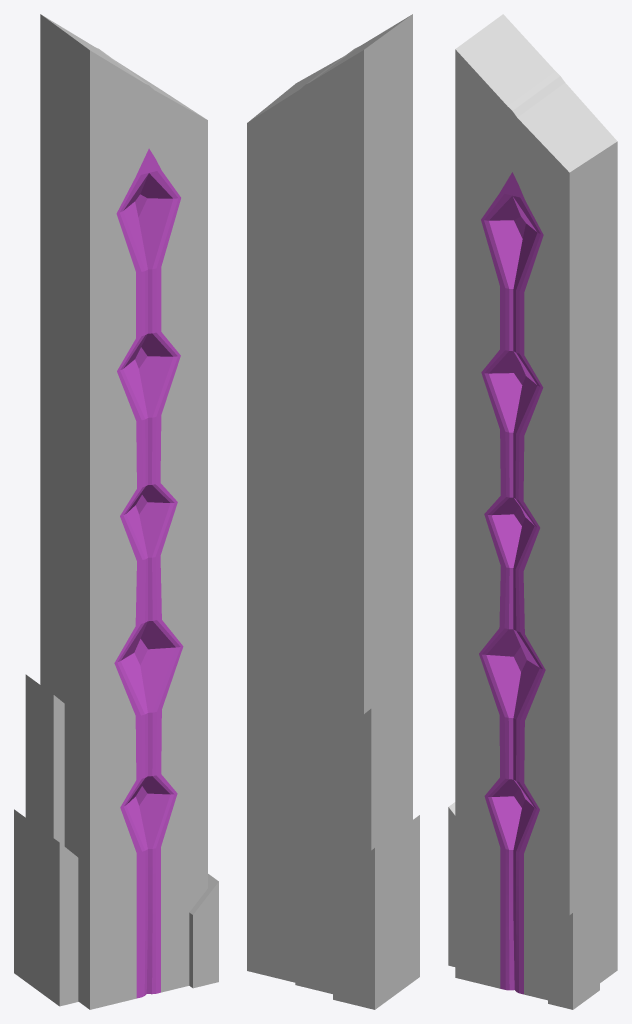
Rendered from FBX_Totem Pillar_00.fbx.
3 views of the same model, side by side, from view 1: azimuth 30°, elevation 25°; view 2: azimuth 150°, elevation 25°; view 3: azimuth 330°, elevation 25° (orthographic). The views are drawn at different scales.
Visible parts, largest first — view 1: Cube; view 2: Cube; view 3: Cube.
Part boxes in pixels (left/top/right/bottom): Cube: left=14, top=14, right=218, bottom=1009; Cube: left=247, top=14, right=419, bottom=1009; Cube: left=448, top=14, right=617, bottom=1009.
Bounding box in the file's own units: 244 × 1554 × 178.
